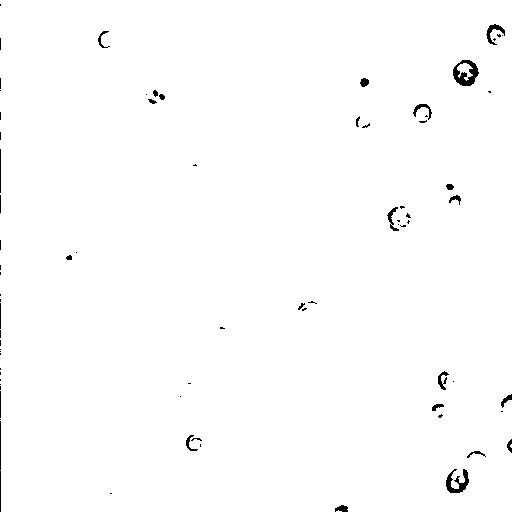micro-algae: (427, 420, 510, 511), (405, 5, 492, 89), (1, 201, 67, 278), (450, 8, 511, 84), (53, 238, 112, 294), (333, 200, 387, 255), (0, 41, 46, 89), (138, 0, 201, 35), (31, 0, 82, 28), (91, 166, 128, 204), (373, 13, 409, 51), (347, 62, 380, 99), (2, 114, 29, 151), (449, 59, 482, 88), (143, 78, 173, 108), (385, 204, 415, 234), (114, 335, 144, 365), (177, 154, 207, 183), (294, 299, 325, 327), (459, 449, 489, 473), (93, 489, 124, 512), (173, 377, 200, 402), (436, 173, 463, 197), (445, 468, 469, 494), (475, 73, 501, 96), (96, 28, 119, 49), (412, 102, 433, 125), (485, 23, 506, 45), (437, 371, 457, 391), (355, 109, 373, 131), (63, 249, 81, 271), (497, 392, 512, 418), (183, 433, 203, 451), (445, 194, 463, 211), (428, 402, 445, 419), (332, 503, 349, 512), (504, 433, 511, 454)
